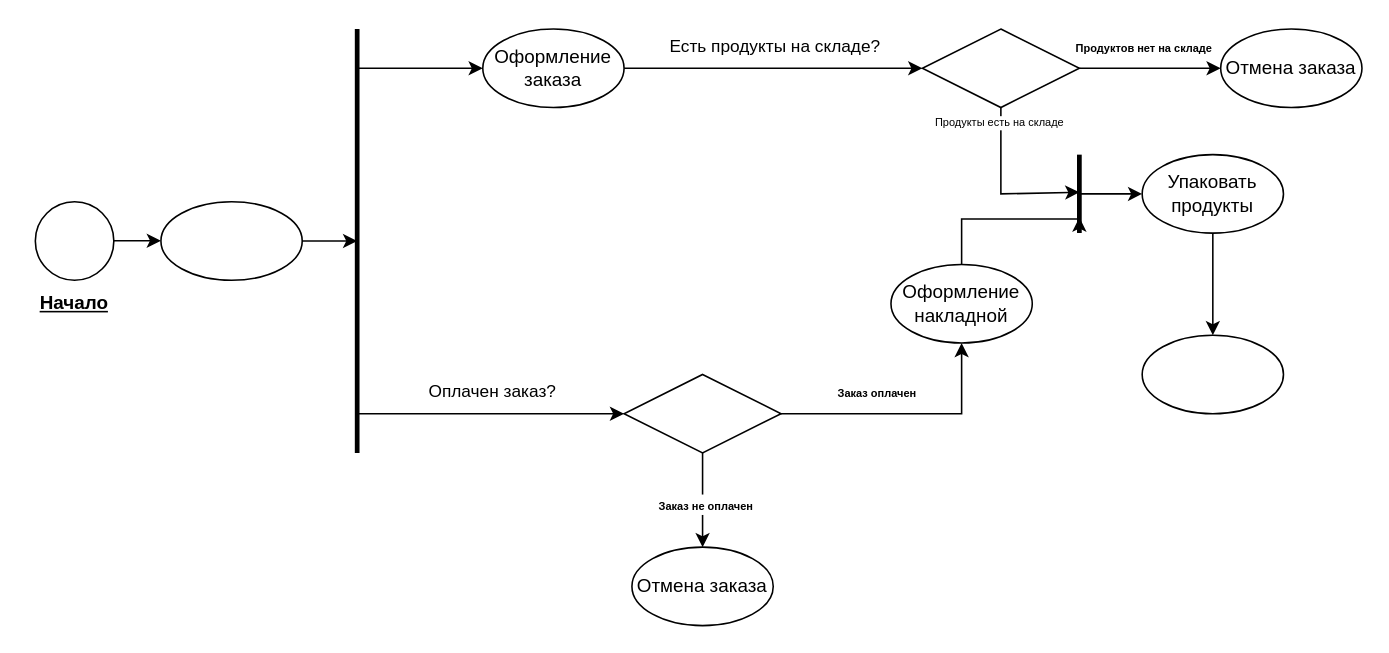
This 1389x653 diagram has some shape labels left out. The shapes that lost their labels are listed below. From the top down, each one's centre as x and y in pixels, then its label:
At pixel 230 240: "Заказ создан".
At pixel 1212 374: "Выдача заказа".
